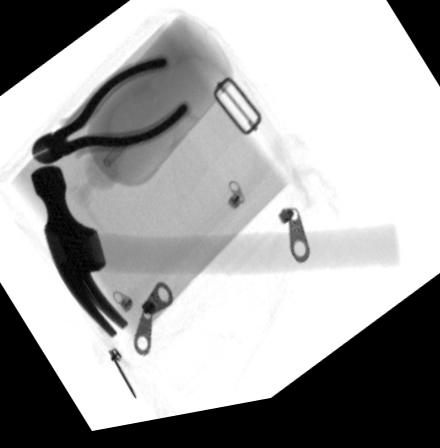Hammer: (29, 165, 398, 342)
Pliers: (31, 60, 192, 166)
